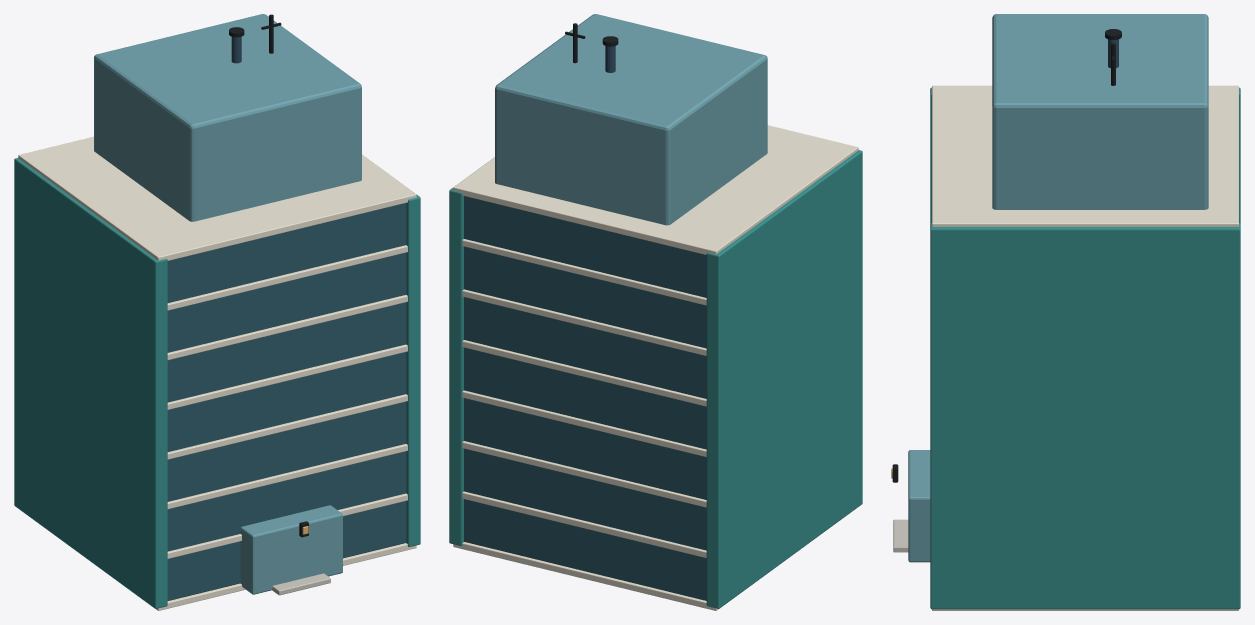
File: OFF_MID_2x2_002.glb
3 views of the same model, side by side, from view 1: azimuth 30°, elevation 25°; view 2: azimuth 150°, elevation 25°; view 3: azimuth 270°, elevation 25° (orthographic). The views are drawn at different scales.
Visible parts, largest first — view 1: OFF_MID_2x2_002_Visual; view 2: OFF_MID_2x2_002_Visual; view 3: OFF_MID_2x2_002_Visual.
Boxes of the visible parts, x1,y1,x2,y2 form: OFF_MID_2x2_002_Visual: (14,14,420,610); OFF_MID_2x2_002_Visual: (449,14,862,610); OFF_MID_2x2_002_Visual: (891,14,1240,610).
Size of what is drawn, in the model's own units: 3.36 by 5.89 by 3.49.
